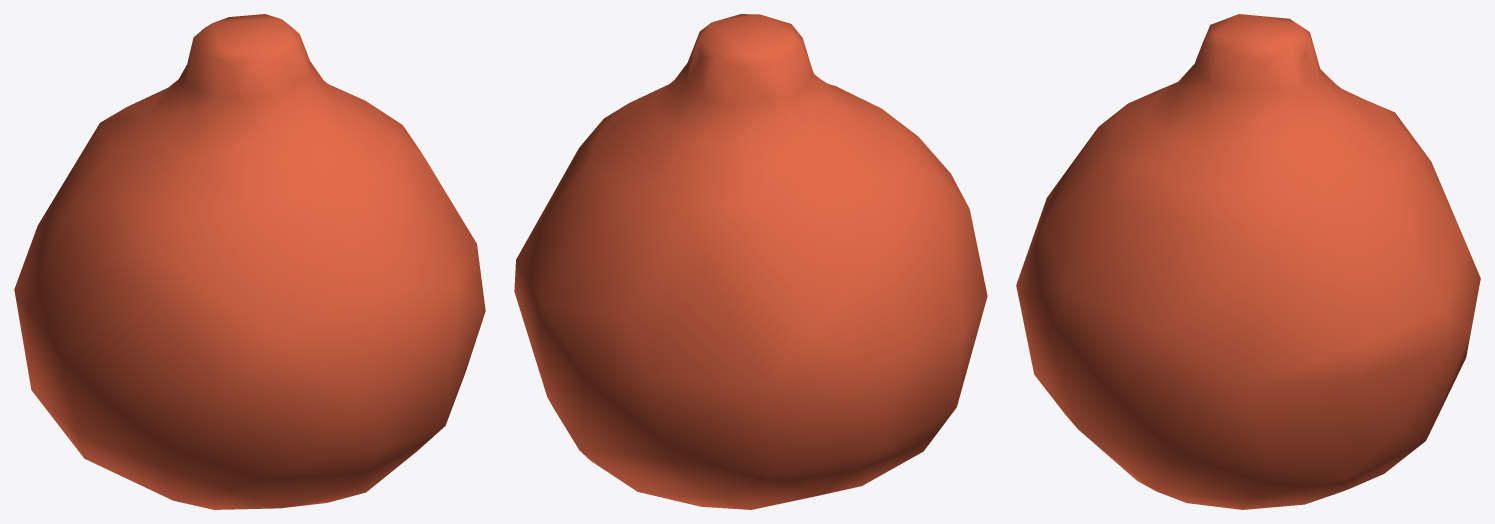
Rendered from Onion.fbx.
The picture shows the model from 3 angles, left to right: view 1: azimuth 30°, elevation 25°; view 2: azimuth 150°, elevation 25°; view 3: azimuth 270°, elevation 25°; orthographic projection.
Visible parts, largest first — view 1: Onion; view 2: Onion; view 3: Onion.
Boxes of the visible parts, x1,y1,x2,y2 form: Onion: (14, 14, 485, 509); Onion: (514, 14, 987, 509); Onion: (1016, 14, 1480, 509).
Bounding box in the file's own units: 10.14 × 11.05 × 10.18.
